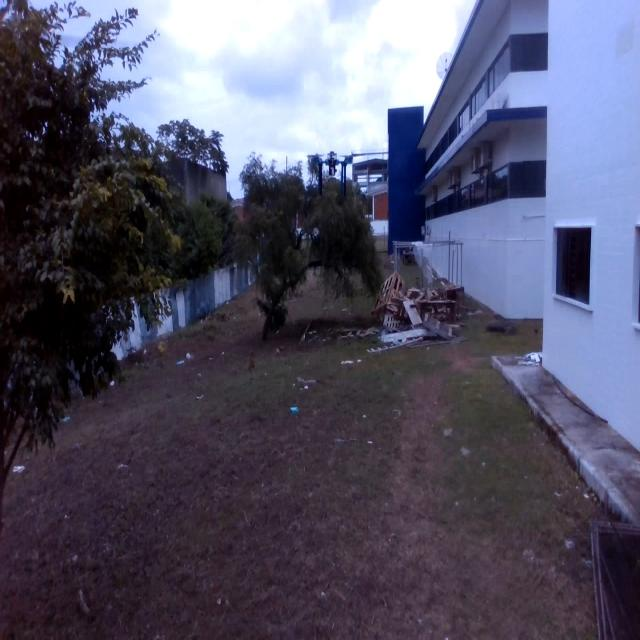-uav-: (297, 140, 368, 208)
